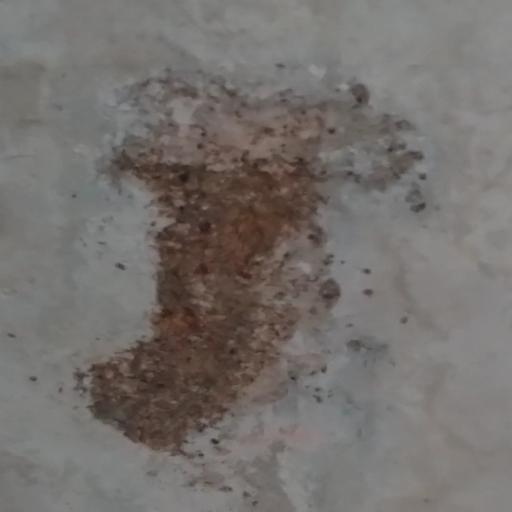spalling: (70, 51, 464, 486)
